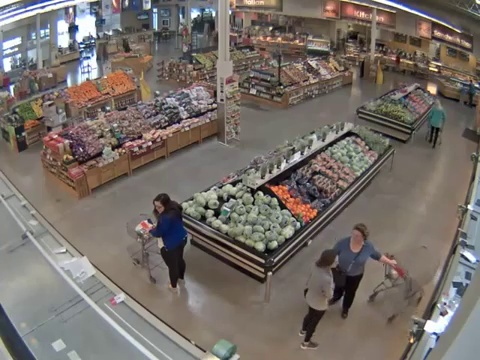face: (351, 230, 365, 244), (154, 199, 166, 213)
